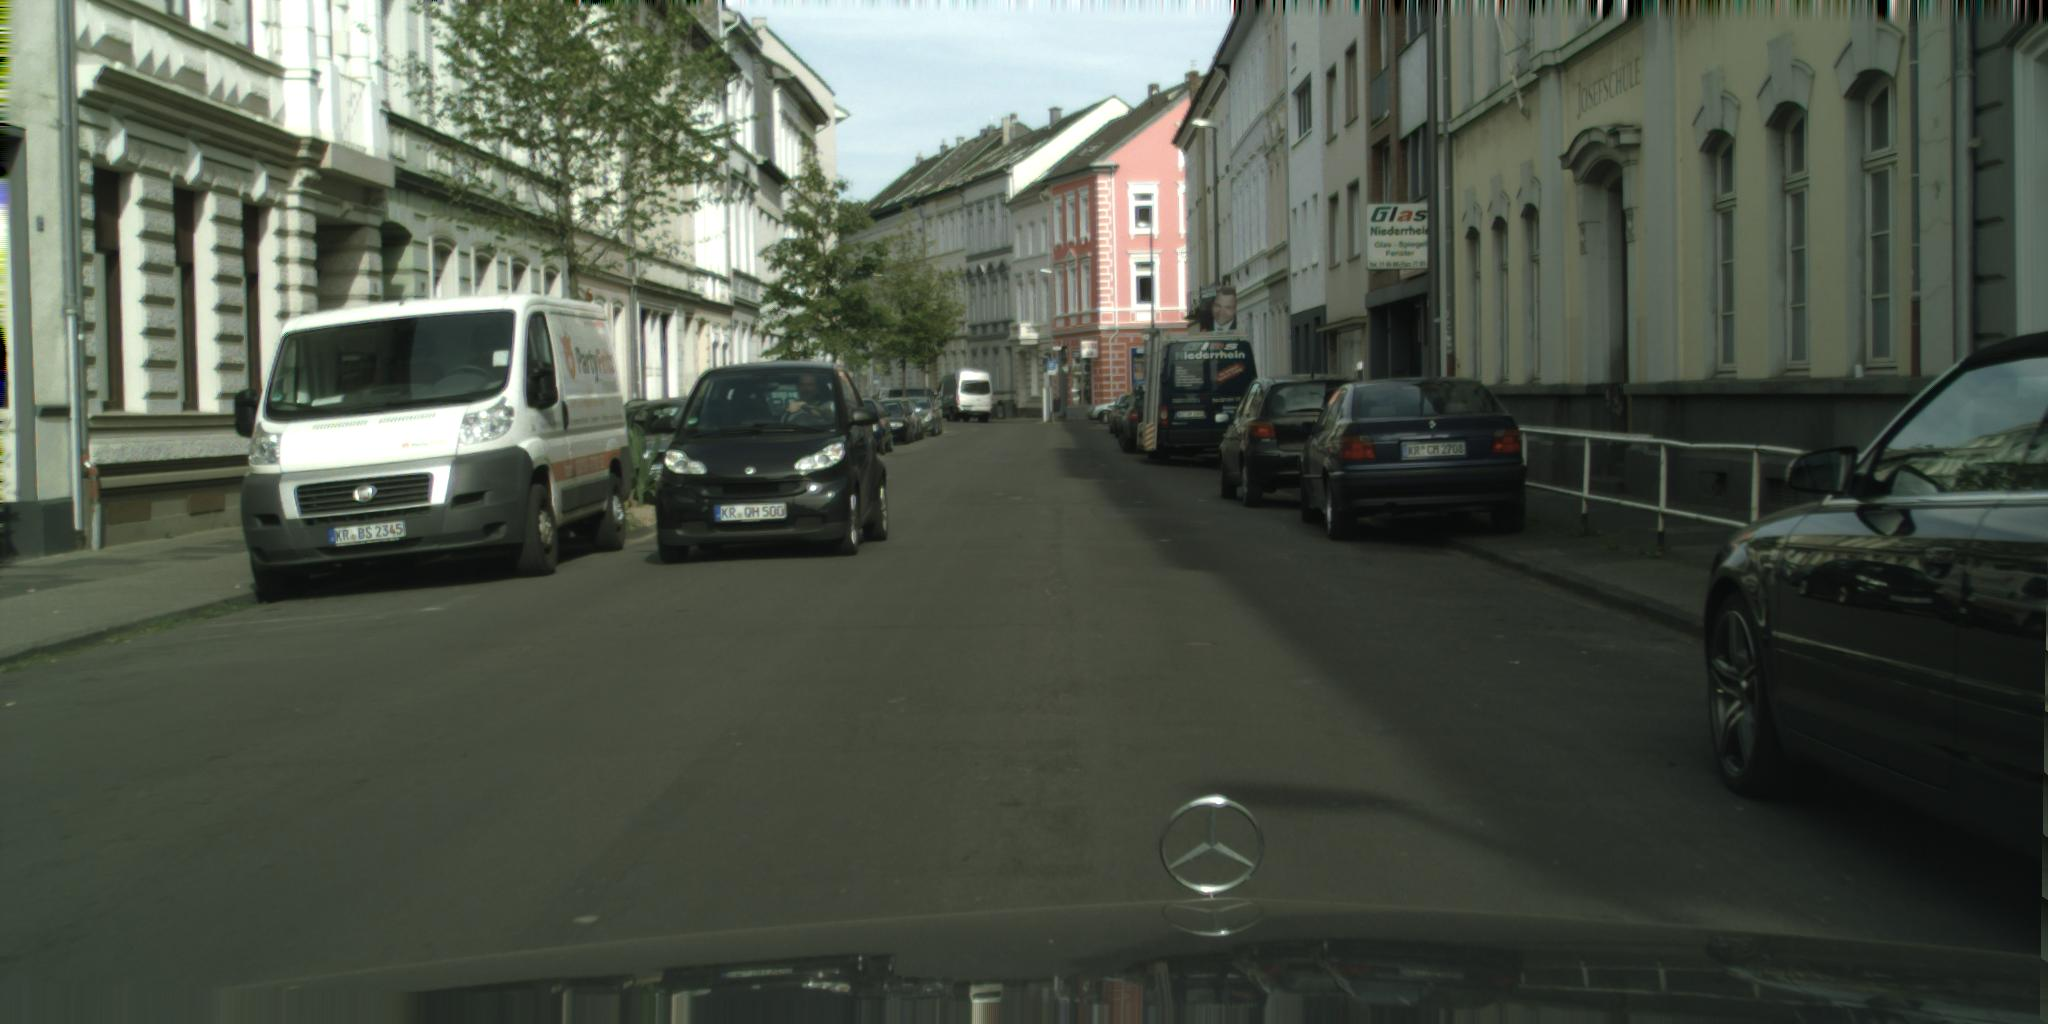car: (1704, 332, 2048, 869), (232, 294, 637, 602), (650, 364, 889, 566), (1298, 377, 1528, 542), (1216, 374, 1364, 508), (1136, 329, 1270, 464), (927, 372, 993, 424), (874, 388, 931, 404)
